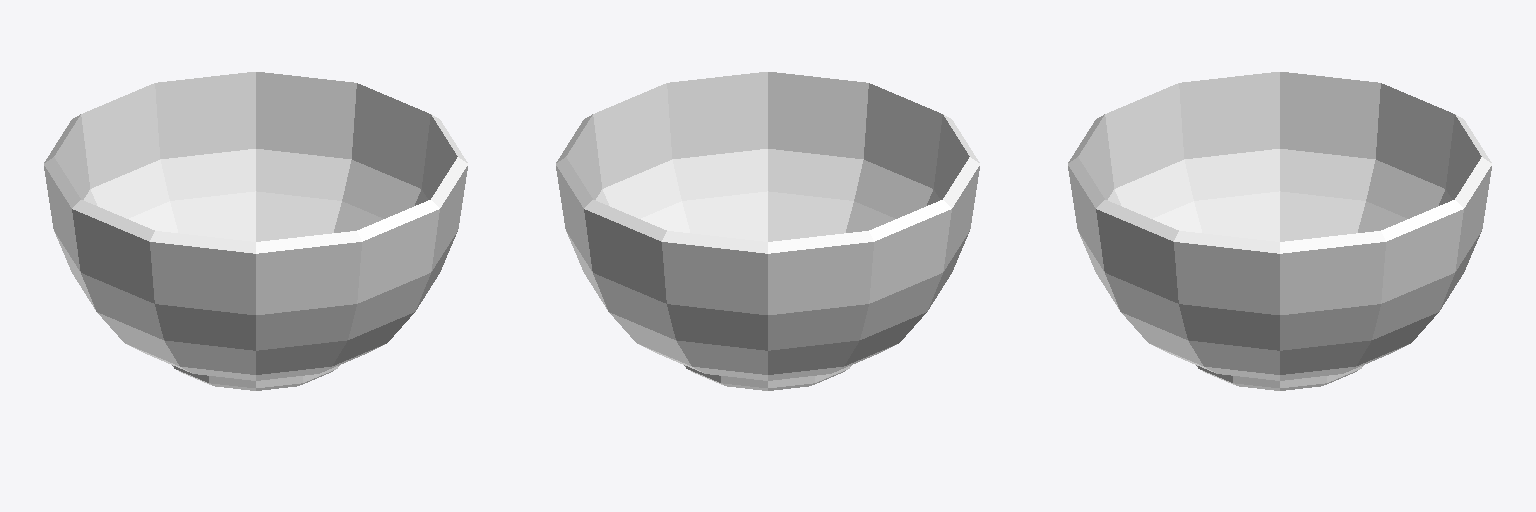
File: bowl.obj
3 renders of one model, left to right at view 1: azimuth 30°, elevation 25°; view 2: azimuth 150°, elevation 25°; view 3: azimuth 270°, elevation 25°, orthographic.
Parts seen in each view (by area): view 1: group[number redacted]; view 2: group[number redacted]; view 3: group[number redacted].
Part boxes in pixels (x1,y1,x2,y2): group[number redacted]: (44,72,467,390); group[number redacted]: (556,72,979,390); group[number redacted]: (1068,72,1491,390).
Bounding box in the file's own units: 2.11 × 1.09 × 2.11.